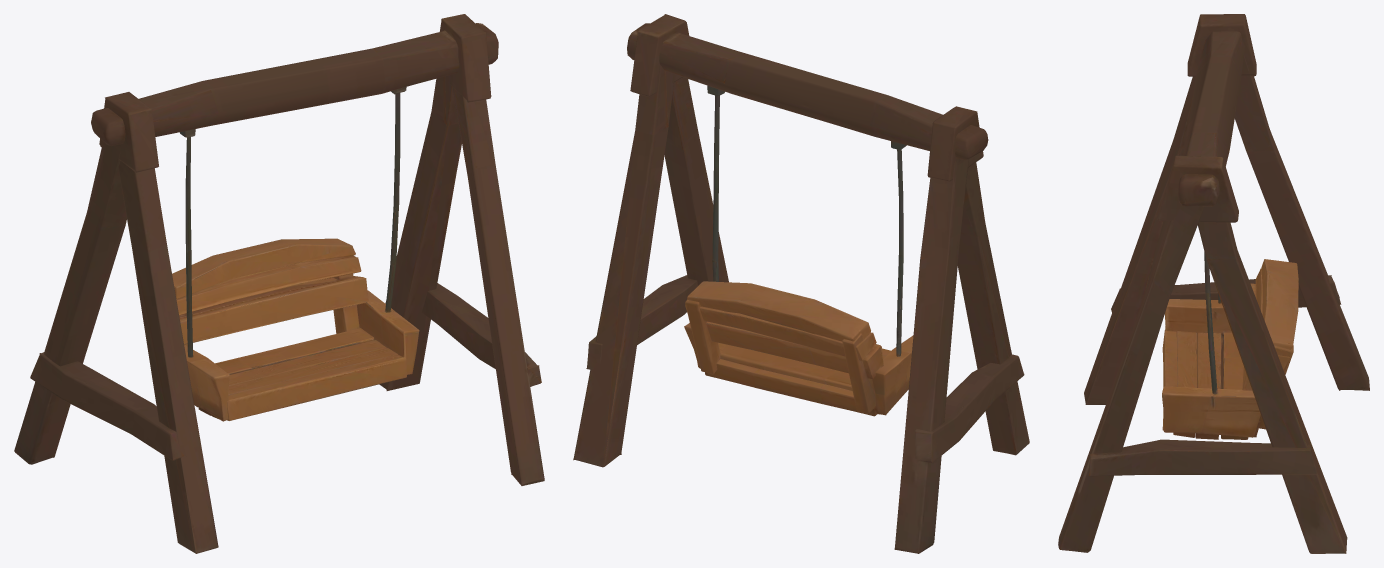
File: kacheli.glb
The picture shows the model from 3 angles, left to right: view 1: azimuth 30°, elevation 25°; view 2: azimuth 150°, elevation 25°; view 3: azimuth 270°, elevation 25°; orthographic projection. The views are drawn at different scales.
Bounding box in the file's own units: 0.9941 × 0.9941 × 0.7265.
Materials: 1 (1 with a texture image).
